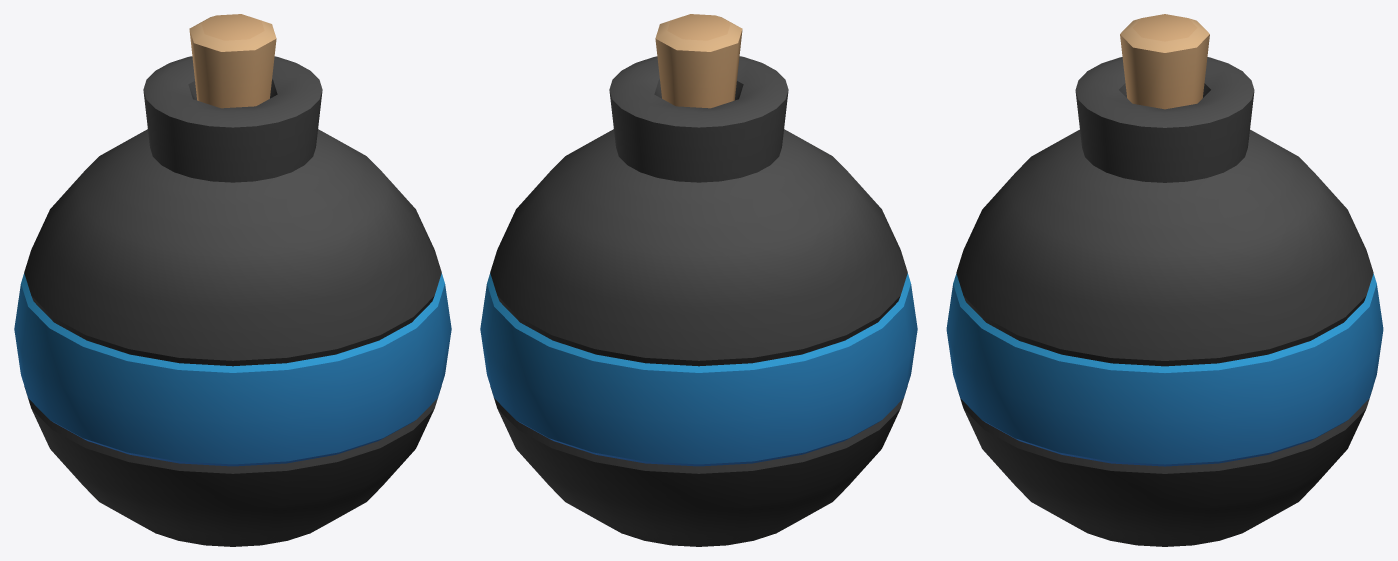
Rendered from bomb_B_blue.glb.
3 views of the same model, side by side, from view 1: azimuth 30°, elevation 25°; view 2: azimuth 150°, elevation 25°; view 3: azimuth 270°, elevation 25° (orthographic).
Visible parts, largest first — view 1: bomb_B_blue; view 2: bomb_B_blue; view 3: bomb_B_blue.
Boxes of the visible parts, box(x1,y1,x2,y2) form: bomb_B_blue: box(14, 14, 451, 546); bomb_B_blue: box(480, 14, 917, 546); bomb_B_blue: box(946, 14, 1383, 546).
Size of the model in its own units: 0.8 by 1.01 by 0.8.
Materials: 1 (1 with a texture image).
